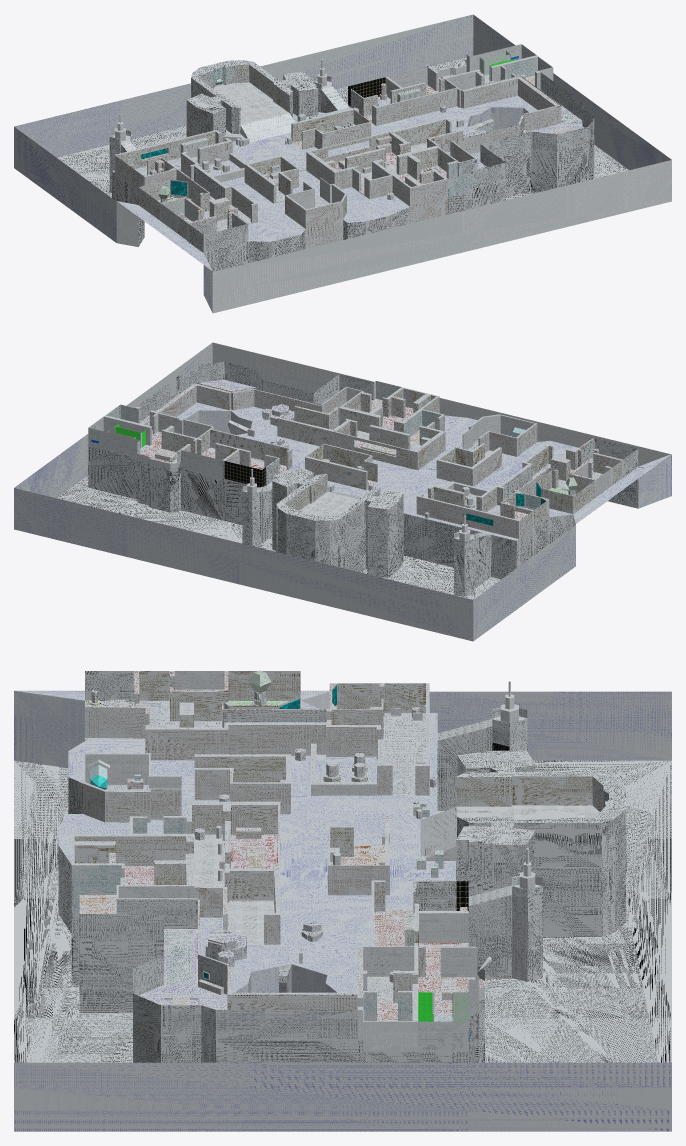
Rendered from test-zone2.glb.
3 renders of one model, top to bottom at view 1: azimuth 30°, elevation 25°; view 2: azimuth 150°, elevation 25°; view 3: azimuth 270°, elevation 25°, orthographic. The views are drawn at different scales.
Parts seen in each view (by area): view 1: SketchUp.159, SketchUp.360, SketchUp.007, SketchUp.006, SketchUp.101, SketchUp.013, SketchUp.164, SketchUp.095, SketchUp.109, SketchUp.081, SketchUp.087, SketchUp.018 (+25 smaller); view 2: SketchUp.159, SketchUp.007, SketchUp.006, SketchUp.013, SketchUp.360, SketchUp.164, SketchUp.101, SketchUp.109, SketchUp.084, SketchUp.116, SketchUp.124, SketchUp.058 (+26 smaller); view 3: SketchUp.007, SketchUp.159, SketchUp.006, SketchUp.013, SketchUp.164, SketchUp.068, SketchUp.109, SketchUp.167, SketchUp.015, SketchUp.087, SketchUp.058, SketchUp.139 (+40 smaller).
Boxes of the visible parts, bbox=[...] form: SketchUp.159: bbox=[14, 14, 671, 242]; SketchUp.360: bbox=[212, 160, 671, 313]; SketchUp.007: bbox=[57, 57, 628, 271]; SketchUp.006: bbox=[112, 95, 537, 241]; SketchUp.101: bbox=[372, 76, 561, 161]; SketchUp.013: bbox=[186, 60, 318, 136]; SketchUp.164: bbox=[472, 72, 594, 187]; SketchUp.095: bbox=[364, 175, 447, 223]; SketchUp.109: bbox=[386, 44, 552, 91]; SketchUp.081: bbox=[285, 182, 346, 248]; SketchUp.087: bbox=[311, 119, 449, 168]; SketchUp.018: bbox=[213, 82, 288, 124]; SketchUp.159: bbox=[14, 343, 575, 641]; SketchUp.007: bbox=[57, 446, 638, 599]; SketchUp.006: bbox=[177, 402, 578, 540]; SketchUp.013: bbox=[272, 467, 403, 547]; SketchUp.360: bbox=[212, 342, 670, 466]; SketchUp.164: bbox=[137, 362, 373, 421]; SketchUp.101: bbox=[154, 383, 346, 469]; SketchUp.109: bbox=[88, 404, 250, 477]; SketchUp.084: bbox=[277, 418, 445, 470]; SketchUp.116: bbox=[163, 429, 289, 465]; SketchUp.124: bbox=[416, 496, 518, 538]; SketchUp.058: bbox=[537, 463, 594, 513]; SketchUp.007: bbox=[14, 726, 671, 1062]; SketchUp.159: bbox=[14, 691, 671, 1131]; SketchUp.006: bbox=[58, 713, 468, 992]; SketchUp.013: bbox=[456, 750, 626, 888]; SketchUp.164: bbox=[79, 914, 357, 1039]; SketchUp.068: bbox=[145, 725, 381, 760]; SketchUp.109: bbox=[363, 903, 484, 1051]; SketchUp.167: bbox=[14, 691, 84, 767]; SketchUp.015: bbox=[457, 776, 603, 811]; SketchUp.087: bbox=[192, 805, 277, 913]; SketchUp.058: bbox=[170, 671, 300, 721]; SketchUp.139: bbox=[374, 910, 484, 1020].
Bounding box in the file's own units: 241 × 41.4 × 181.
73 materials, 69 textured.
